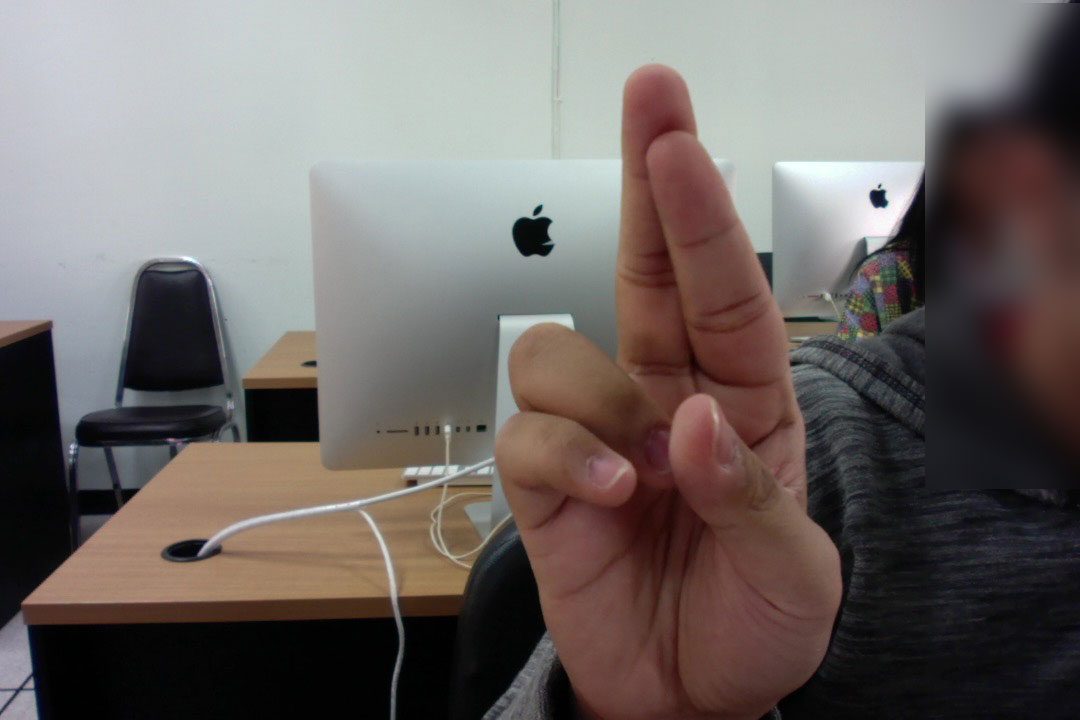rao: (480, 44, 849, 716)
